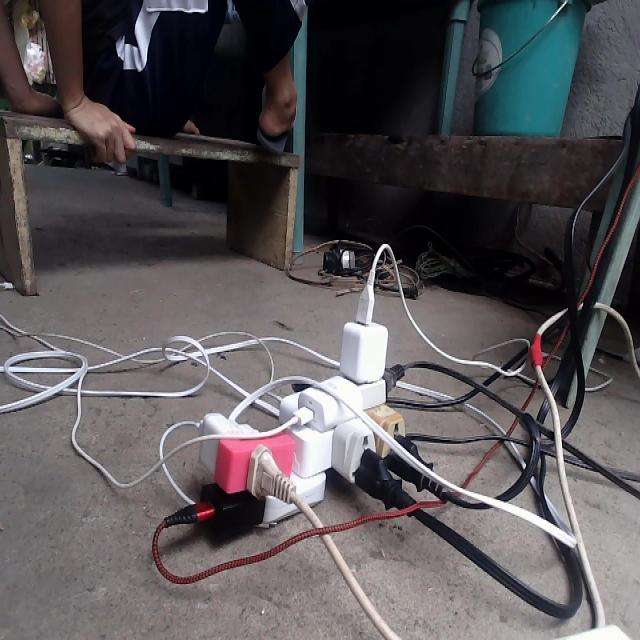-: (184, 315, 422, 544)
